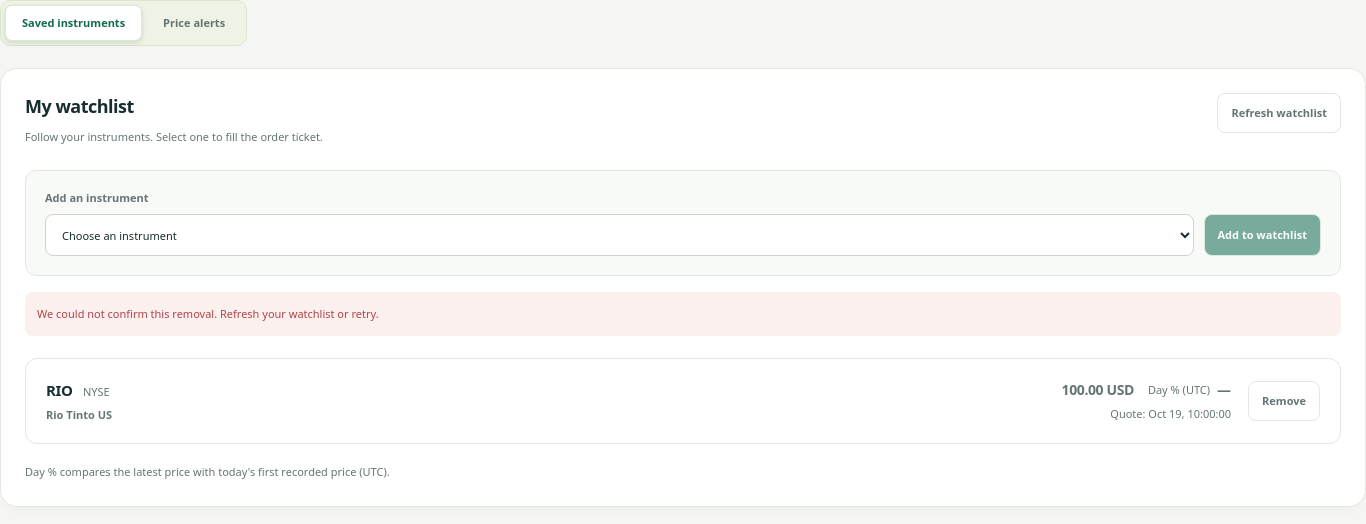
Test: WatchlistComponent › keeps an entry after a failed removal and removes it only after confirmation
What coordinates should you click on to do the following:
click the button with class "remove-button"
I would click on:
 (1284, 401)
Its box is [1248,381,1320,421].
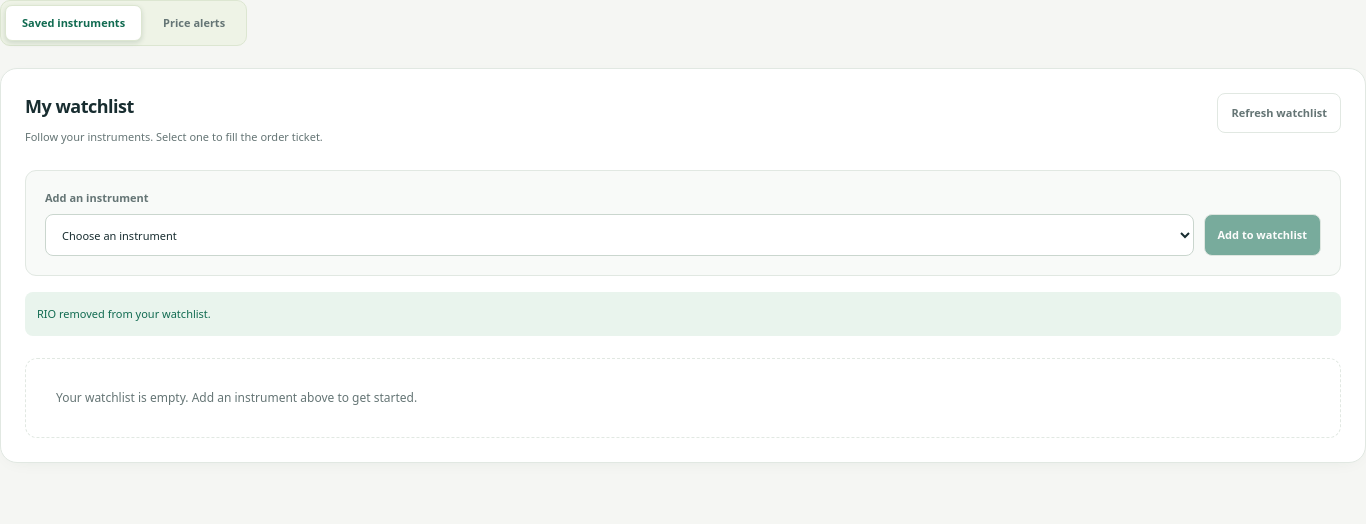
Check: the text "Your watchlist is empty" is shown, box [56,389,417,406]
Check: the text "removed" is shown, box [37,306,211,321]
